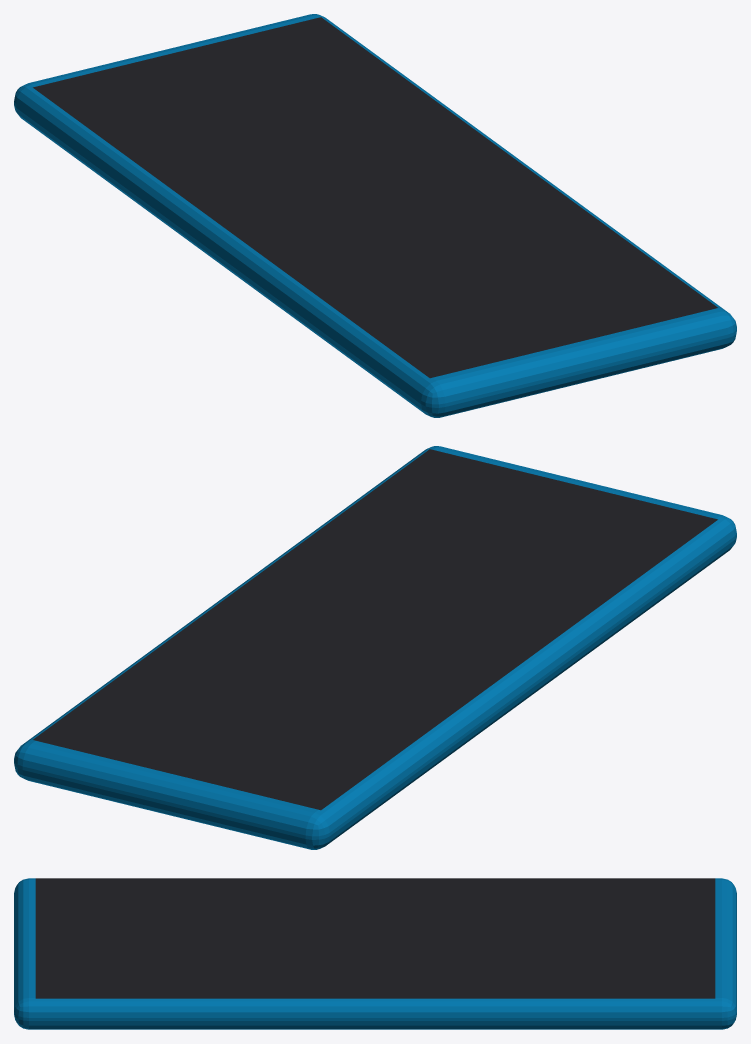
The model's file is Phone_969.glb.
3 renders of one model, top to bottom at view 1: azimuth 30°, elevation 25°; view 2: azimuth 150°, elevation 25°; view 3: azimuth 270°, elevation 25°, orthographic. The views are drawn at different scales.
Visible parts, largest first — view 1: Phone_Screen, Phone_Body; view 2: Phone_Screen, Phone_Body; view 3: Phone_Screen, Phone_Body.
Part boxes in pixels (left/top/right/bottom): Phone_Screen: left=33, top=17, right=717, bottom=378; Phone_Body: left=14, top=14, right=736, bottom=417; Phone_Screen: left=33, top=449, right=717, bottom=810; Phone_Body: left=14, top=446, right=736, bottom=849; Phone_Screen: left=35, top=878, right=715, bottom=998; Phone_Body: left=14, top=878, right=736, bottom=1029.
Size of the model in its own units: 0.0727 by 0.008 by 0.1697.
